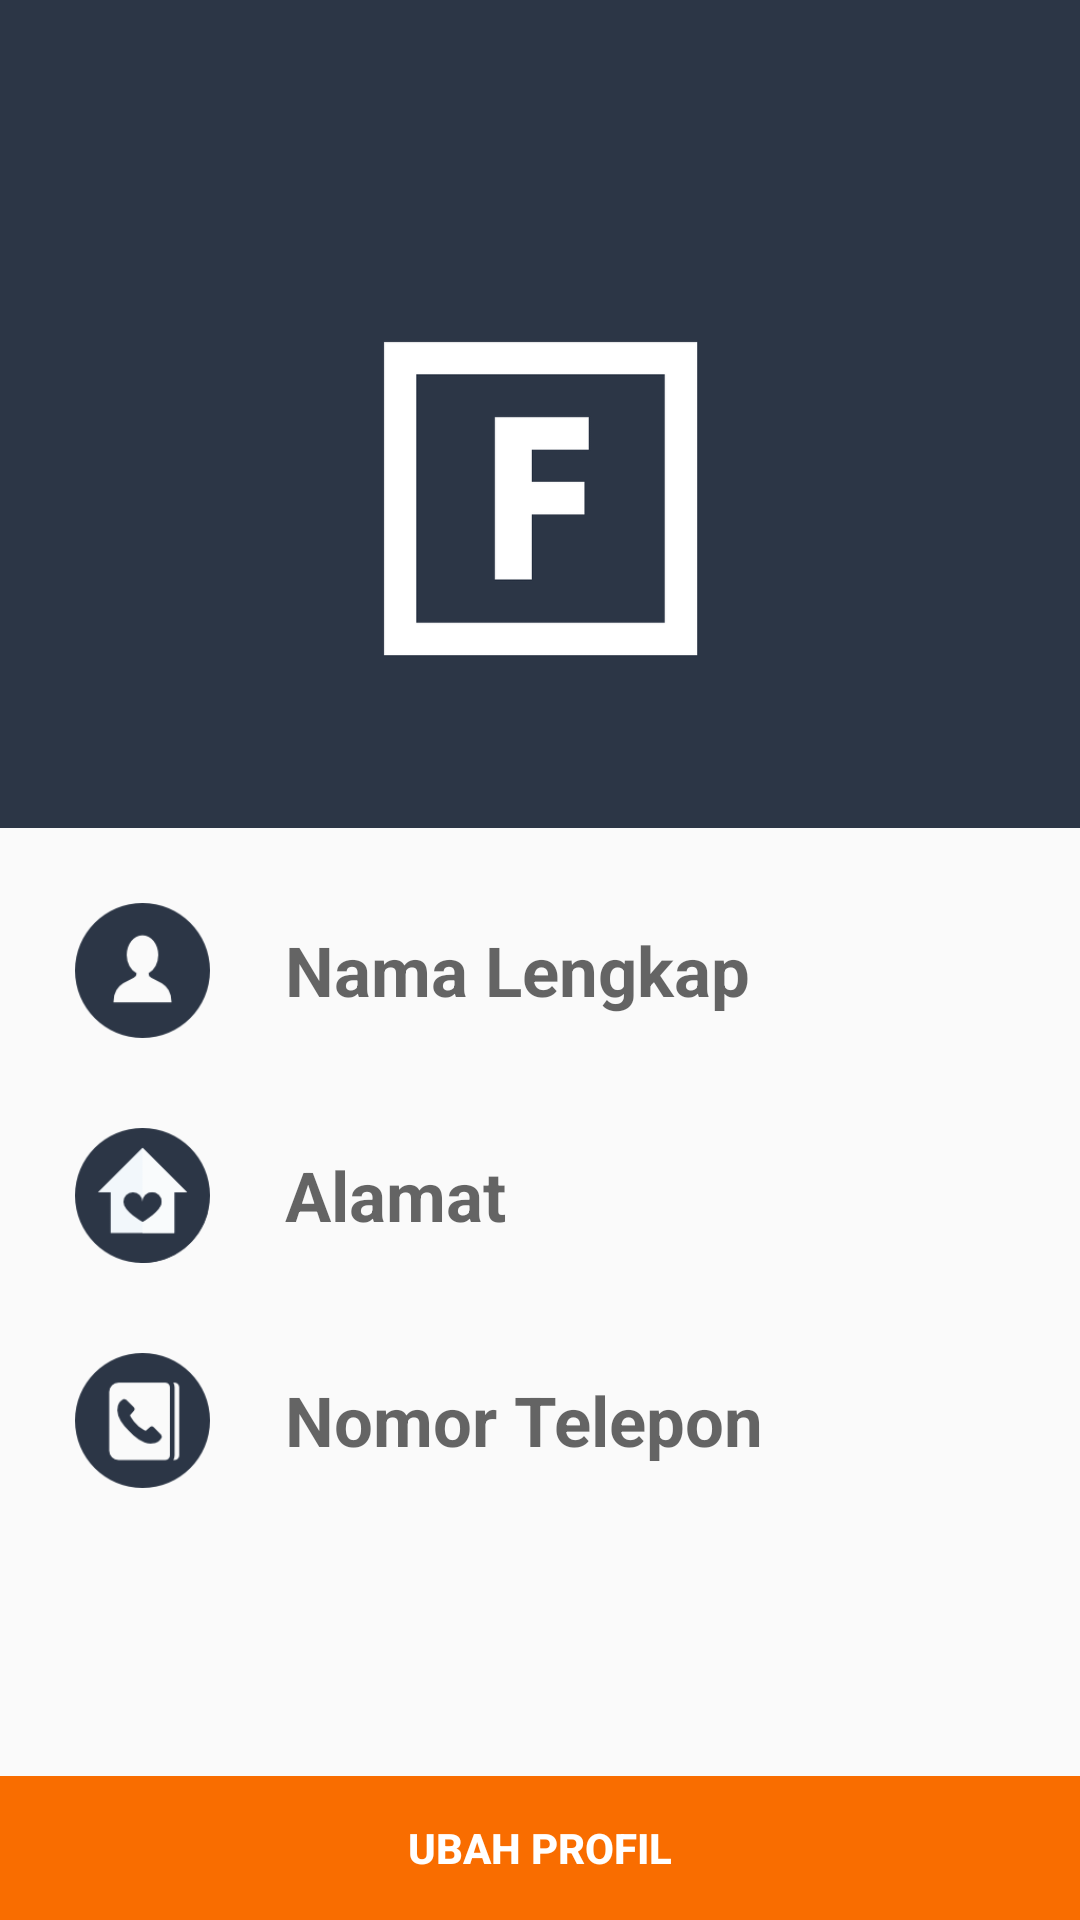

Locate icon controls on the screen. Image size 1080px×1920px, boxes as (x1, y1, x2, y2).
home: (75, 1128, 210, 1263)
phone: (75, 1353, 210, 1488)
profil: (75, 903, 210, 1038)
